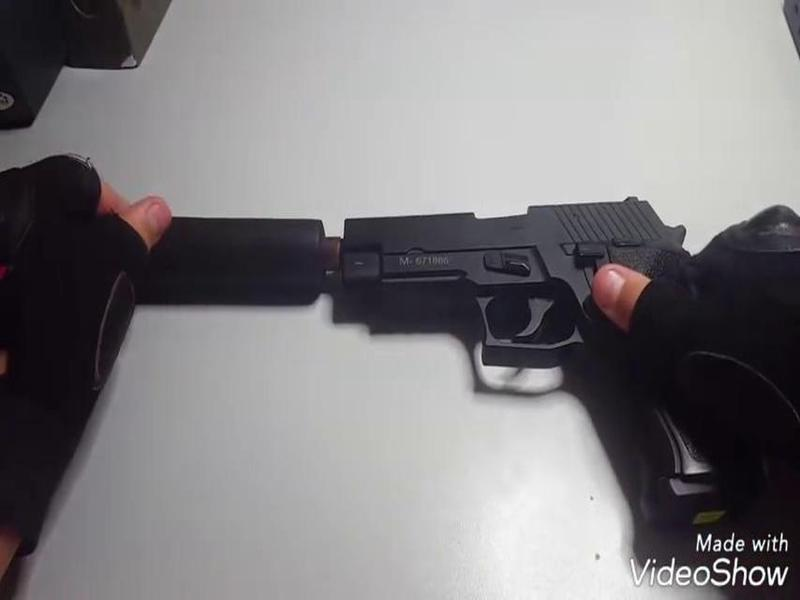Pistola: (338, 181, 774, 530)
